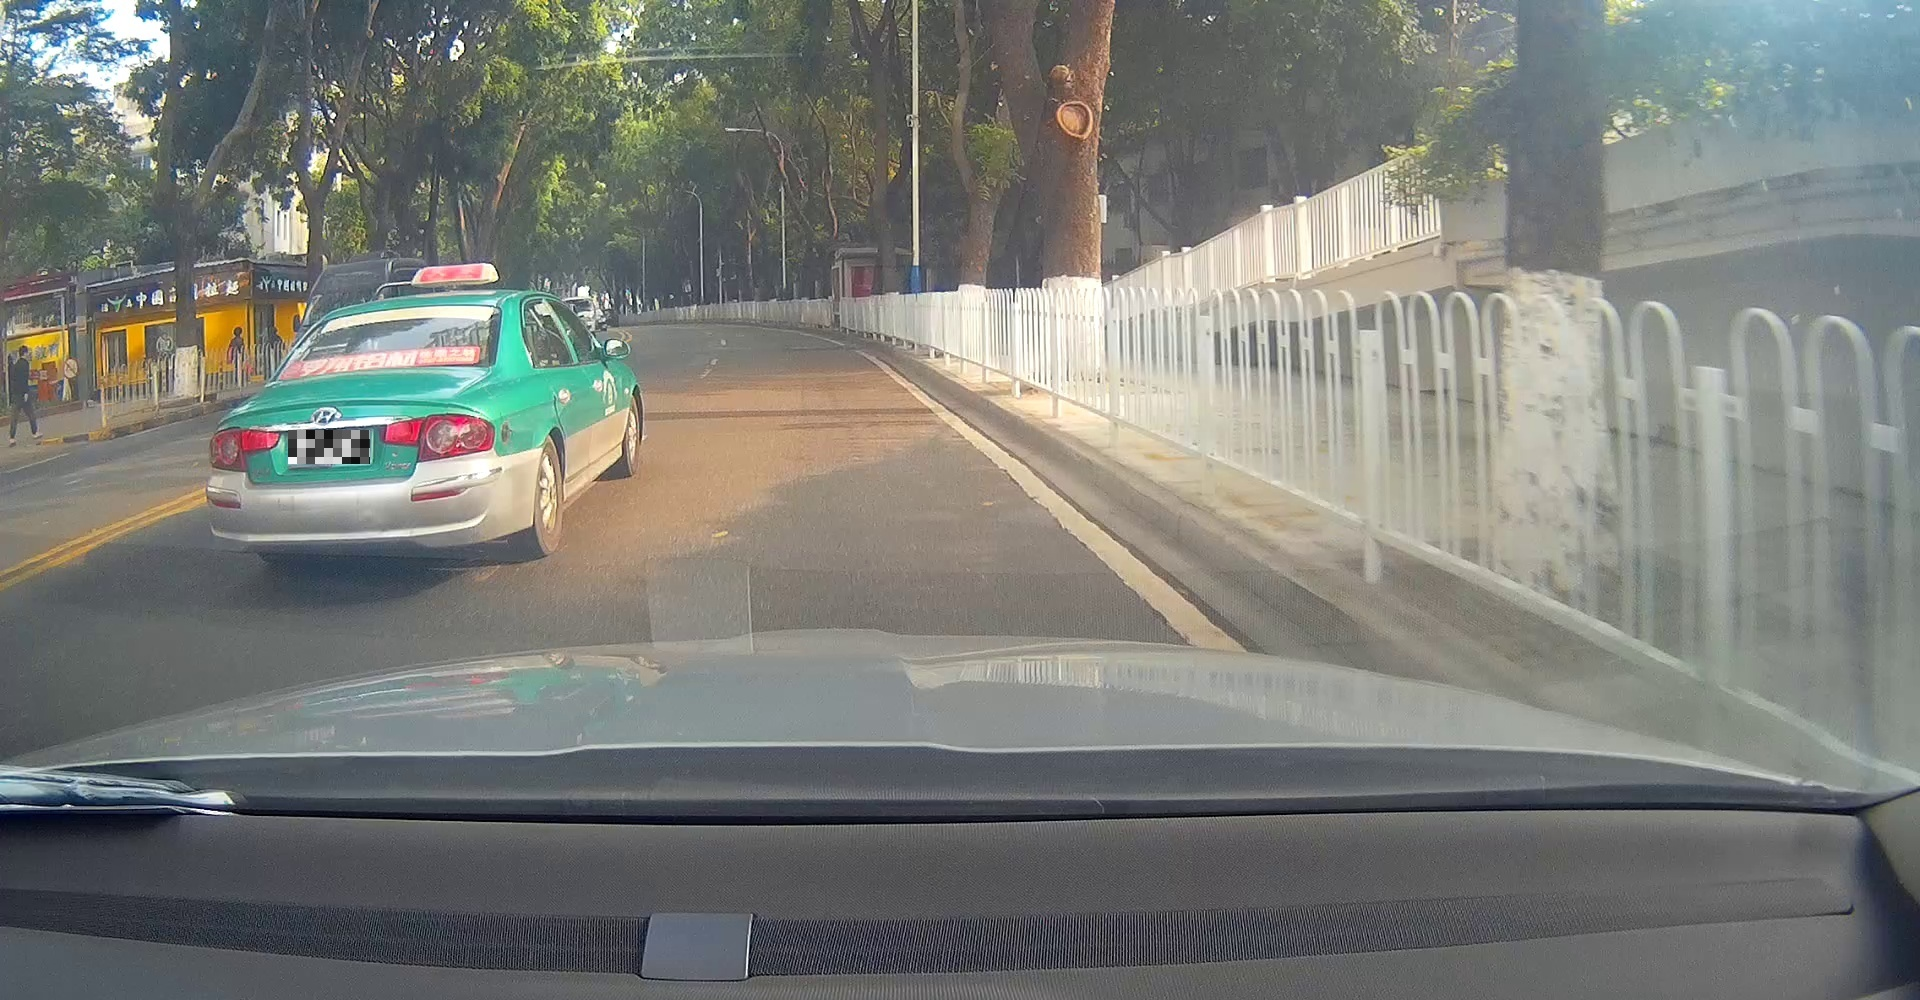L_light: (208, 426, 281, 473)
R_light: (382, 412, 495, 461)
T_light: (383, 306, 422, 317)
day-no: (204, 289, 503, 566)
plate_1: (288, 430, 370, 464)
